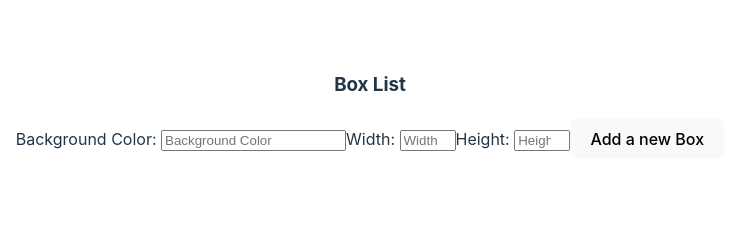
Test: Box › can remove a box
Type "red" into the field labelled "Background Color:" at [254, 140], box [161,130,346,151]
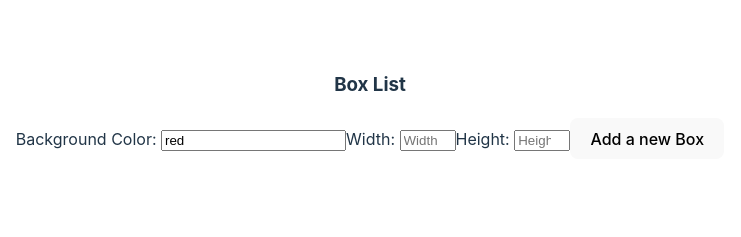
Type "5" into the number field labelled "Width:" at [428, 140], box [400,130,456,151]
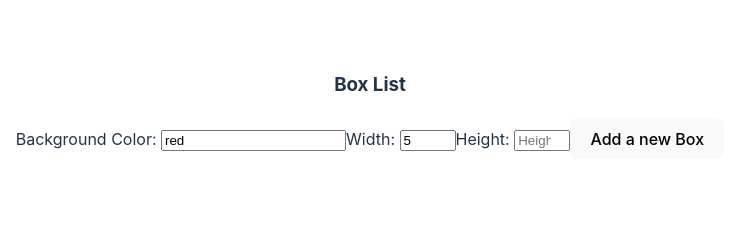
Type "5" into the number field labelled "Height:" at [542, 140], box [514,130,570,151]
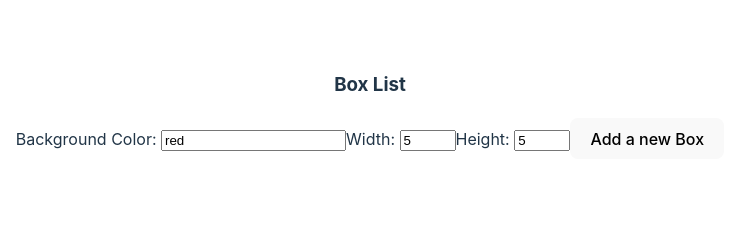
Click the button "Add a new Box" at [647, 139], box [570,118,724,159]
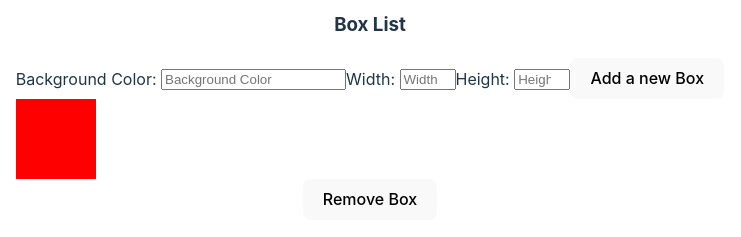
Click the button "Remove Box" at [370, 199], box [303,179,437,220]
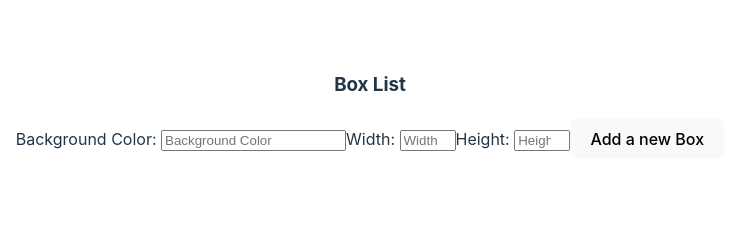
Now the button "Remove Box" is gone
